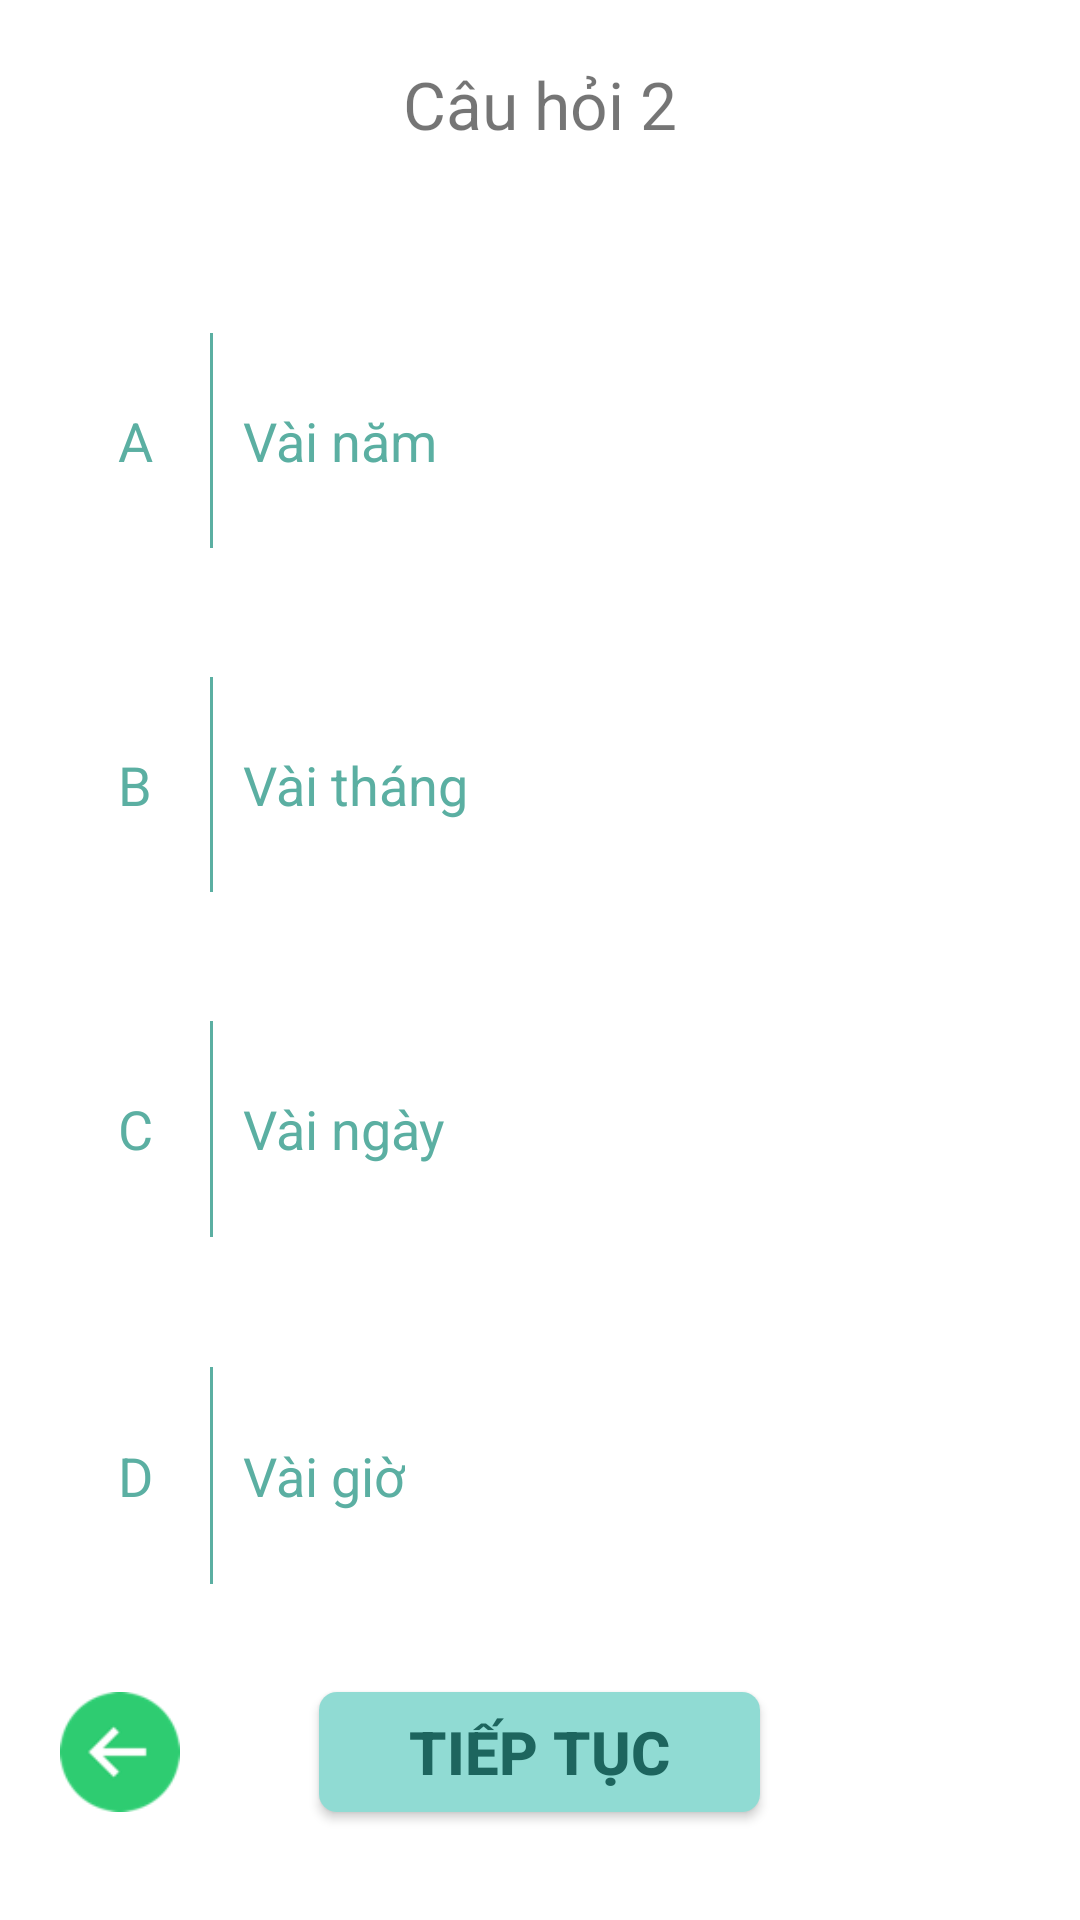

Where icons sit on this 1080 × 1920 app screen, as [left=x1, top=y1, right=x2, bottom=y2]:
back: [left=60, top=1692, right=180, bottom=1812]
